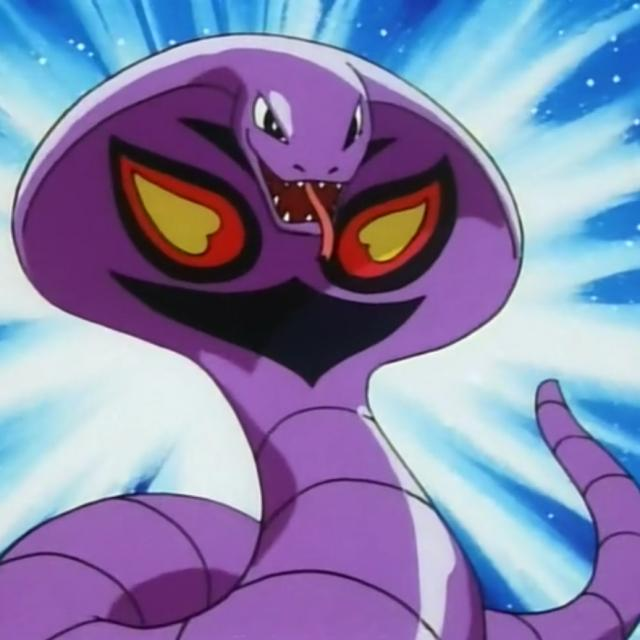Arbok: (92, 29, 506, 634)
